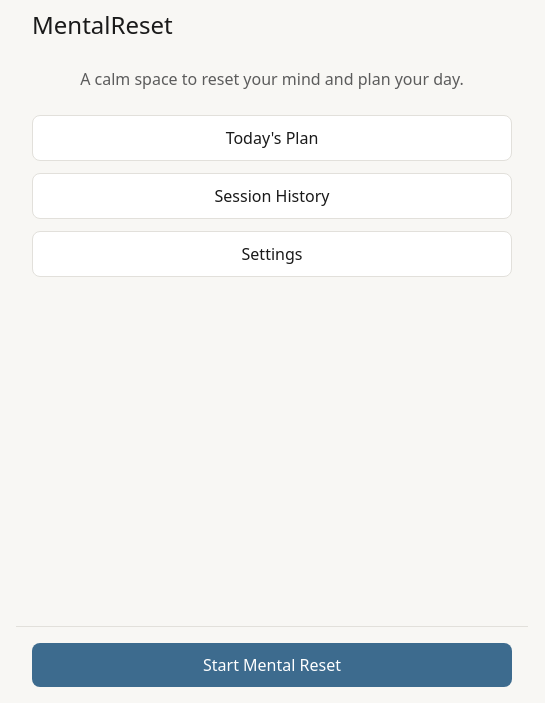
it: start session with Save for Later pull-in › shows Save for Later review when LATER tasks exist
Click the button "Start Mental Reset": click(272, 665) x1=32 y1=643 x2=512 y2=687
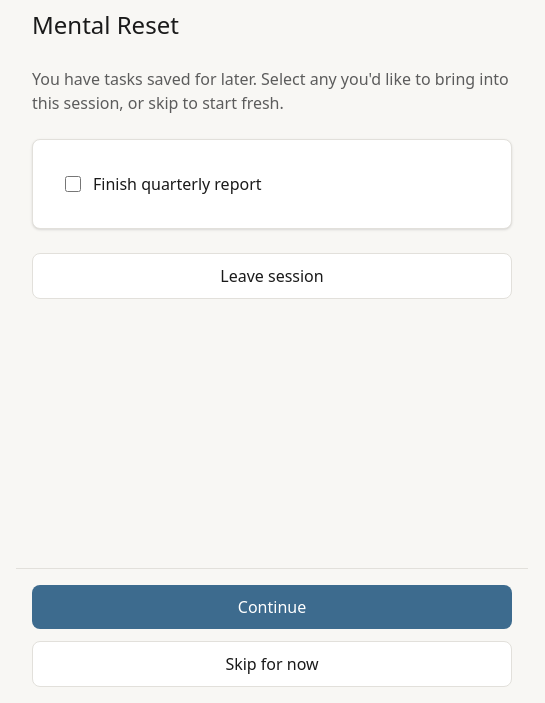
Now the text "Finish quarterly report" is shown, box x1=93 y1=172 x2=262 y2=196
Now the checkbox labelled "Finish quarterly report" is not checked, box x1=65 y1=176 x2=81 y2=192
